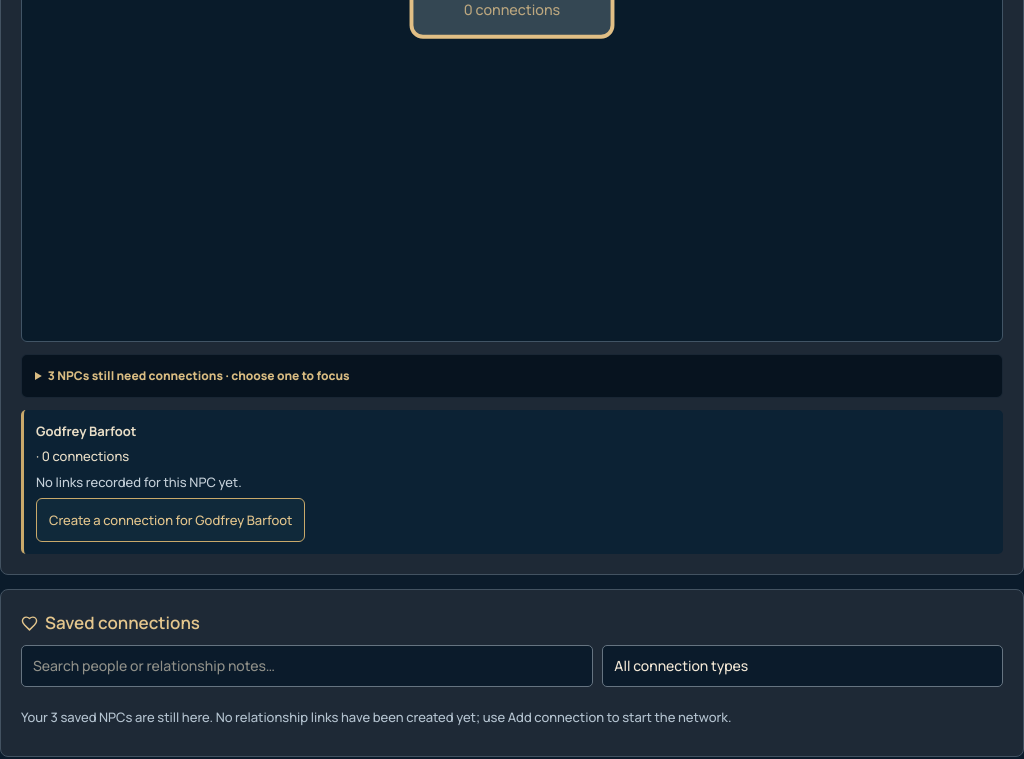
distinguishes a saved NPC roster from an empty relationship network
(page scrolled)
Expected: the text "Your 3 saved NPCs are still here" is shown, [21,708,732,726]
Click the heading "3 NPCs still need connections · choose one to focus" at {"x": 199, "y": 375}, box [48,367,350,384]
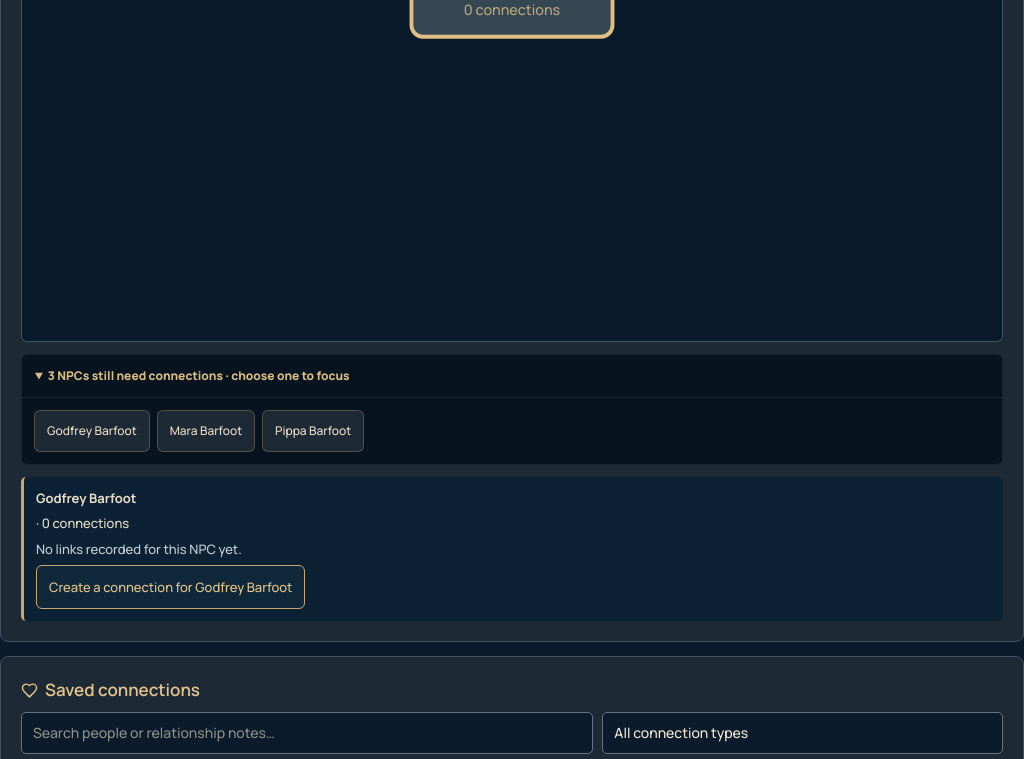
Expected: the button "Pippa Barfoot" is shown
Click the button "Pippa Barfoot" at {"x": 313, "y": 431}, box [262,410,364,452]
(page scrolled)
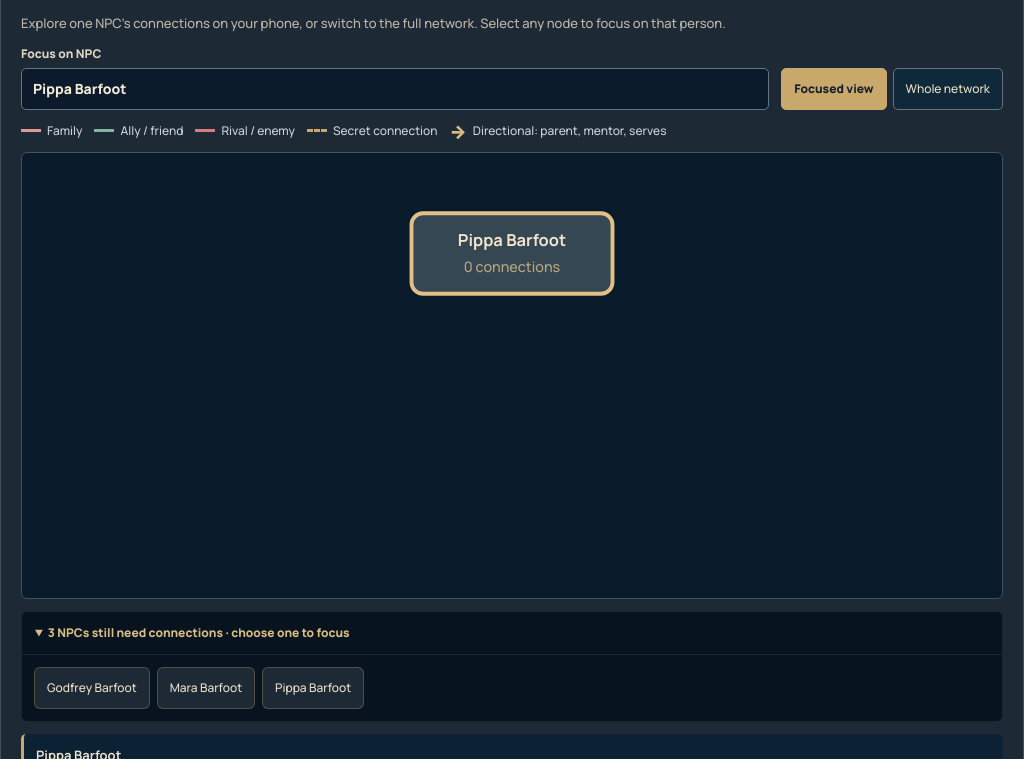
Expected: the icon named "Relationship network focused on Pippa Barfoot" is shown, [232,153,792,598]
